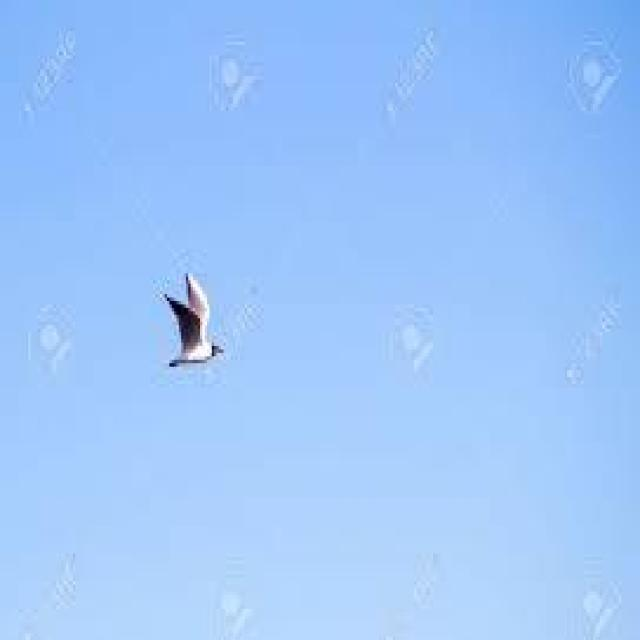bird: (160, 260, 224, 377)
